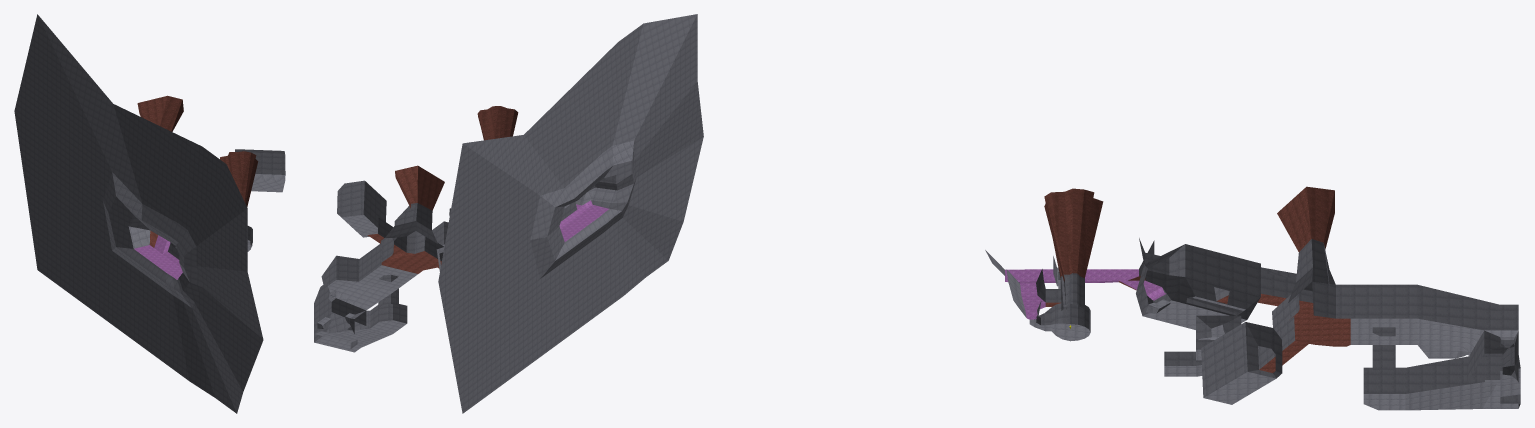
File: level.glb
The picture shows the model from 3 angles, left to right: view 1: azimuth 30°, elevation 25°; view 2: azimuth 150°, elevation 25°; view 3: azimuth 270°, elevation 25°; orthographic projection. The views are drawn at different scales.
Visible parts, largest first — view 1: level; view 2: level; view 3: level.
Boxes of the visible parts, box(x1,y1,x2,y2) form: level: box(14, 14, 285, 413); level: box(314, 14, 703, 413); level: box(985, 186, 1520, 410).
Bounding box in the file's own units: 169 × 217 × 389.
5 materials, 4 textured.
